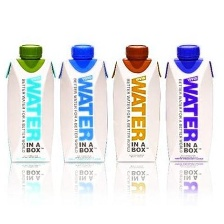carton: (163, 40, 217, 163), (110, 39, 162, 162), (58, 39, 109, 163), (6, 42, 57, 165)
